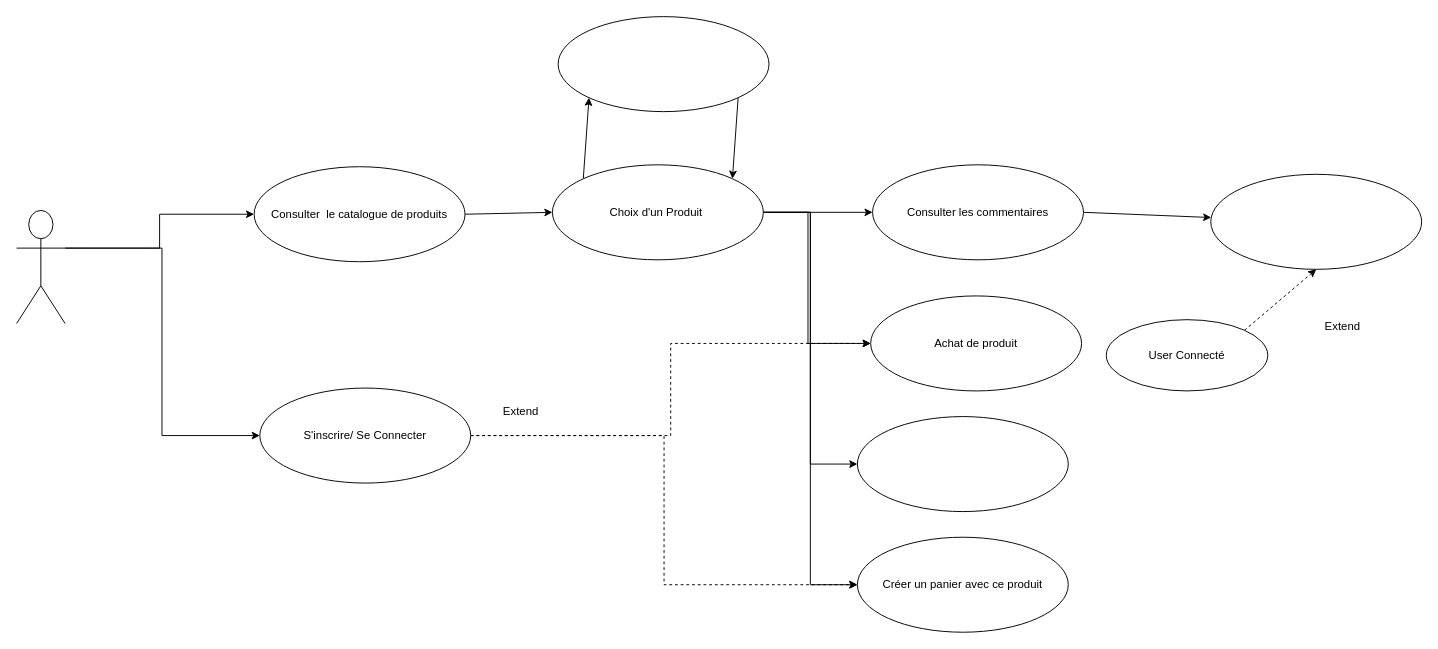
This 1438x649 diagram has some shape labels left out. Each missing label, with the centre of its shape:
Client: the point at 40,266
Commenter le produit: the point at 1316,221
Consulter d'autre produit: the point at 663,64
Noter le produit: the point at 962,464
